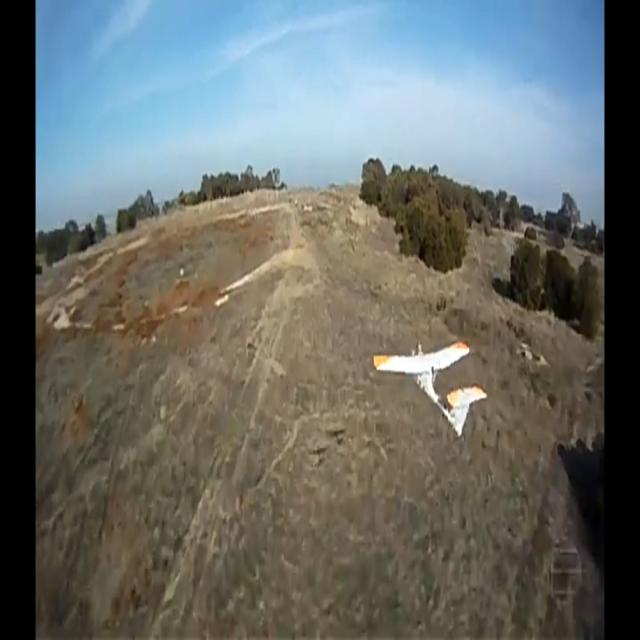iha: (405, 370, 456, 407)
